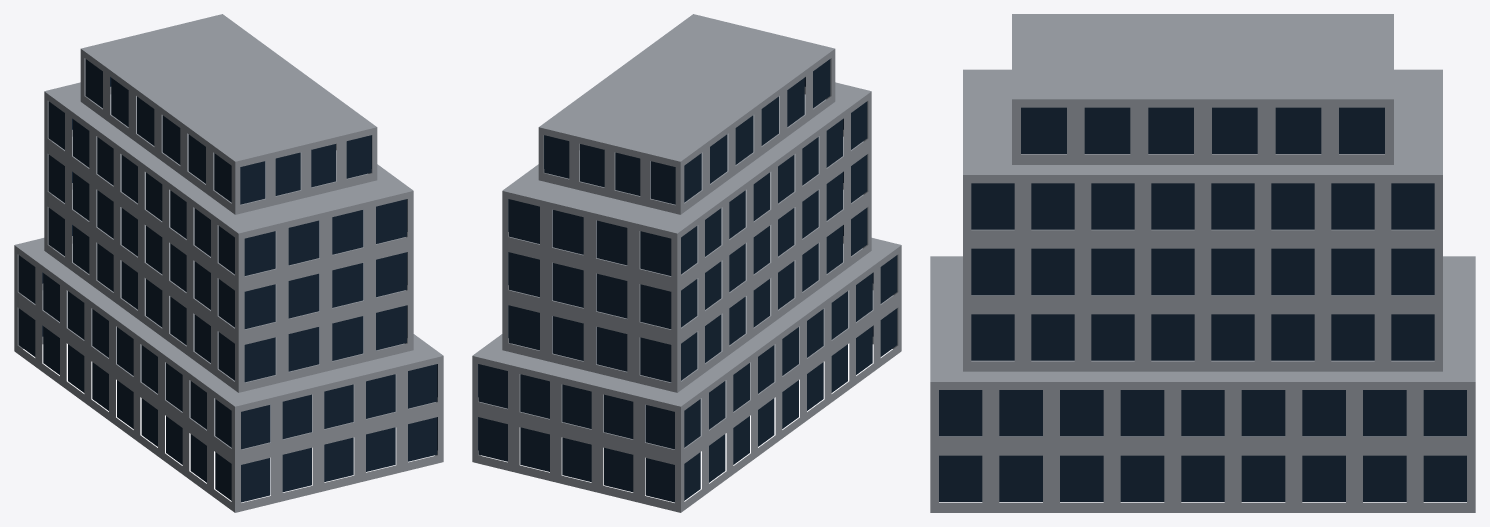
The model's file is Residential Buildings 001.obj.
3 views of the same model, side by side, from view 1: azimuth 30°, elevation 25°; view 2: azimuth 150°, elevation 25°; view 3: azimuth 270°, elevation 25° (orthographic). The views are drawn at different scales.
Visible parts, largest first — view 1: Residential; view 2: Residential; view 3: Residential.
Part boxes in pixels (<box>): Residential: <box>14,14,443,512</box>; Residential: <box>472,14,901,512</box>; Residential: <box>930,14,1475,512</box>.
Bounding box in the file's own units: 12.59 × 18.39 × 23.1.
